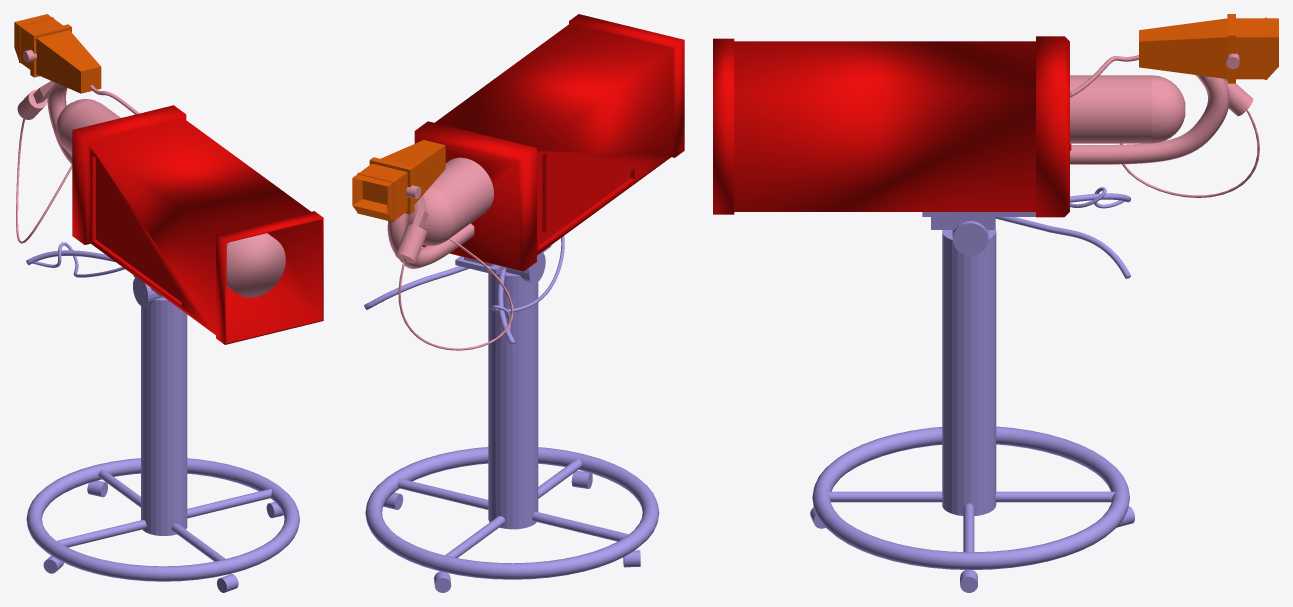
The model's file is camera.fbx.
The picture shows the model from 3 angles, left to right: view 1: azimuth 30°, elevation 25°; view 2: azimuth 150°, elevation 25°; view 3: azimuth 270°, elevation 25°; orthographic projection. The views are drawn at different scales.
Parts seen in each view (by area): view 1: Cube, Cylinder.004; view 2: Cube, Cylinder.004; view 3: Cube, Cylinder.004.
Boxes of the visible parts, x1,y1,x2,y2 form: Cube: (14, 14, 323, 344); Cylinder.004: (26, 242, 299, 592); Cube: (352, 14, 684, 350); Cylinder.004: (364, 236, 659, 592); Cube: (713, 14, 1278, 217); Cylinder.004: (810, 187, 1134, 592).
Size of the model in its own units: 500 by 861 by 882.
